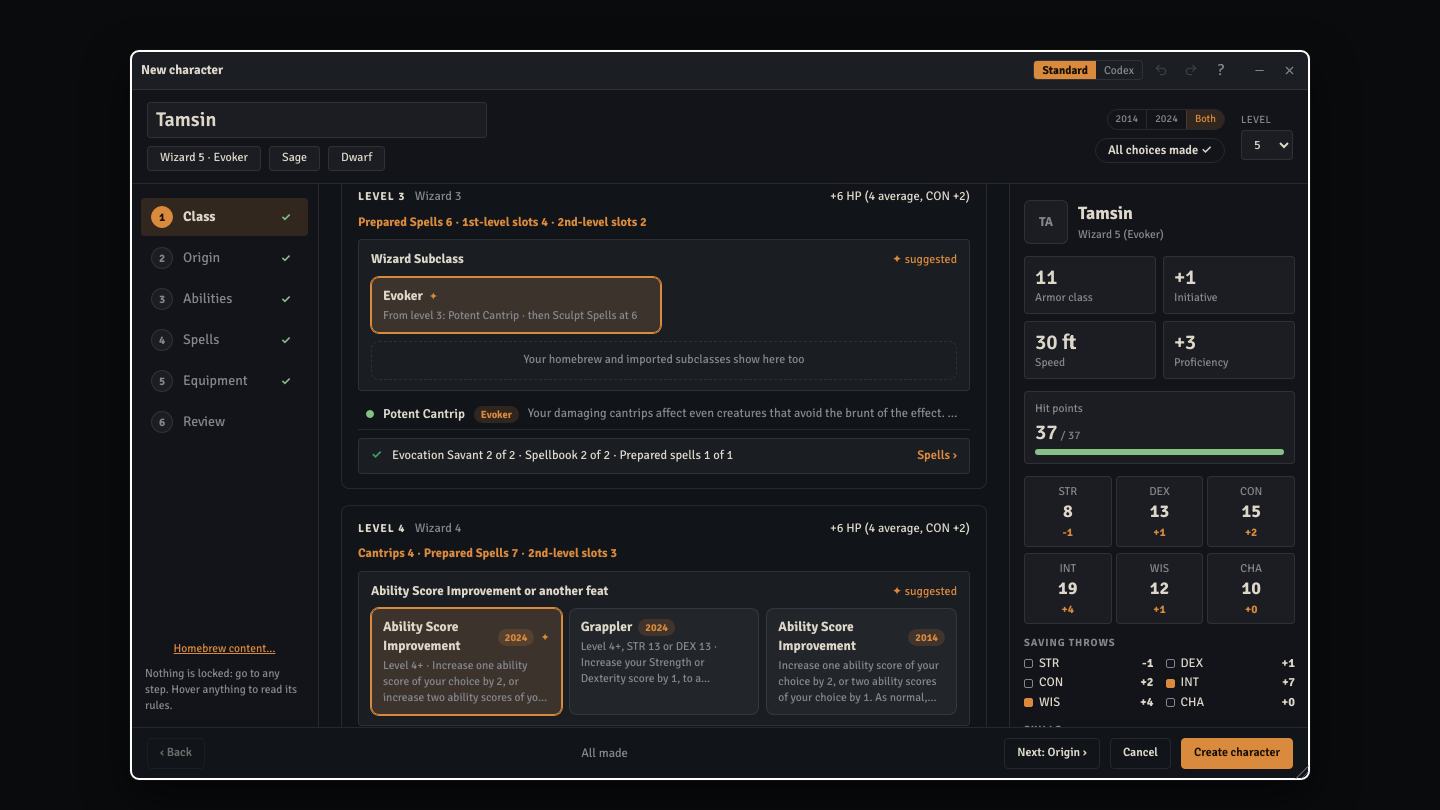
Test: the Spells step › opens a level's grid from its line in Class
(page scrolled)
Click the button "Spells ›" at (664, 456), box 358,438 -> 970,474
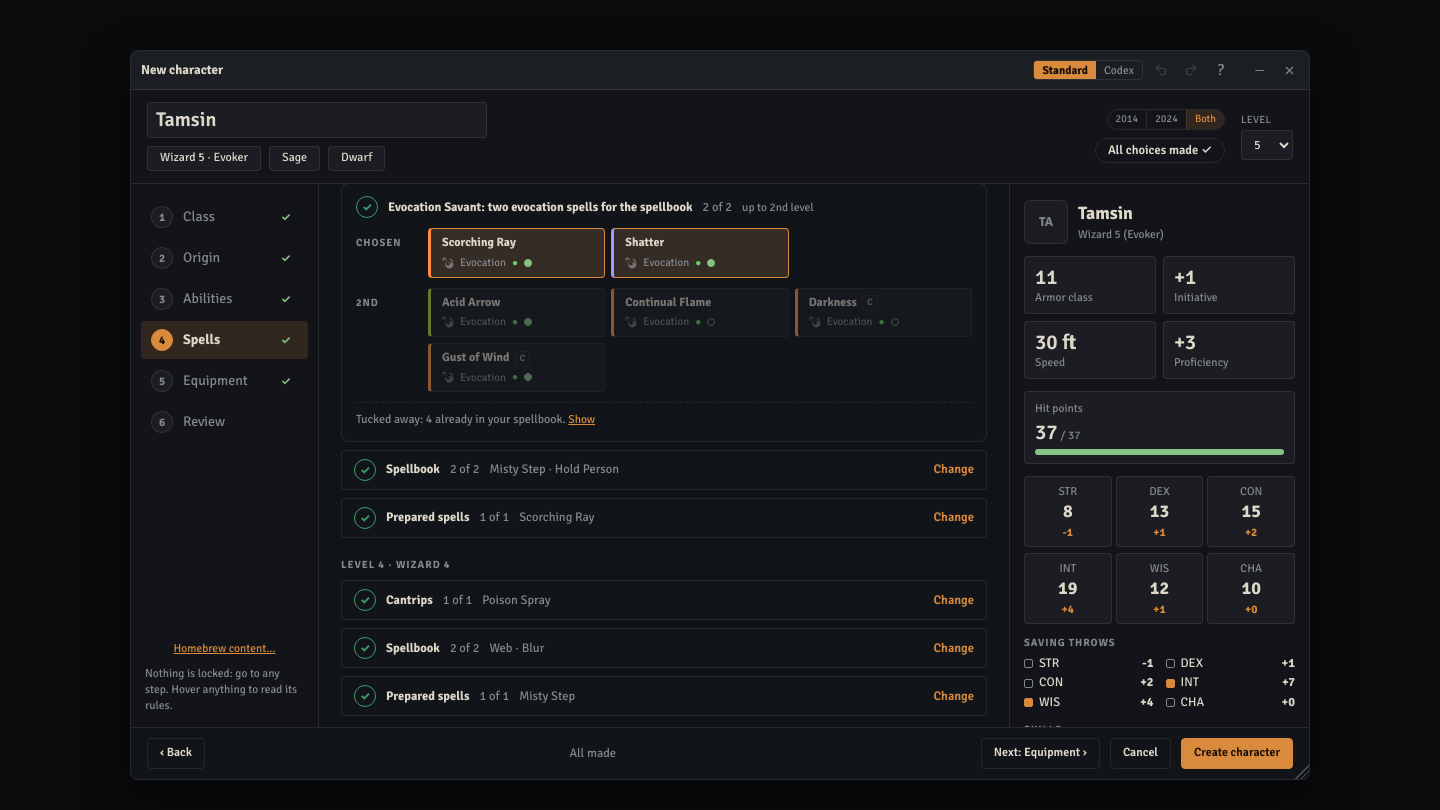
expect the element "Evocation Savant: two evocation spells for the spellbook" is shown: met, box 341,184 -> 987,442
